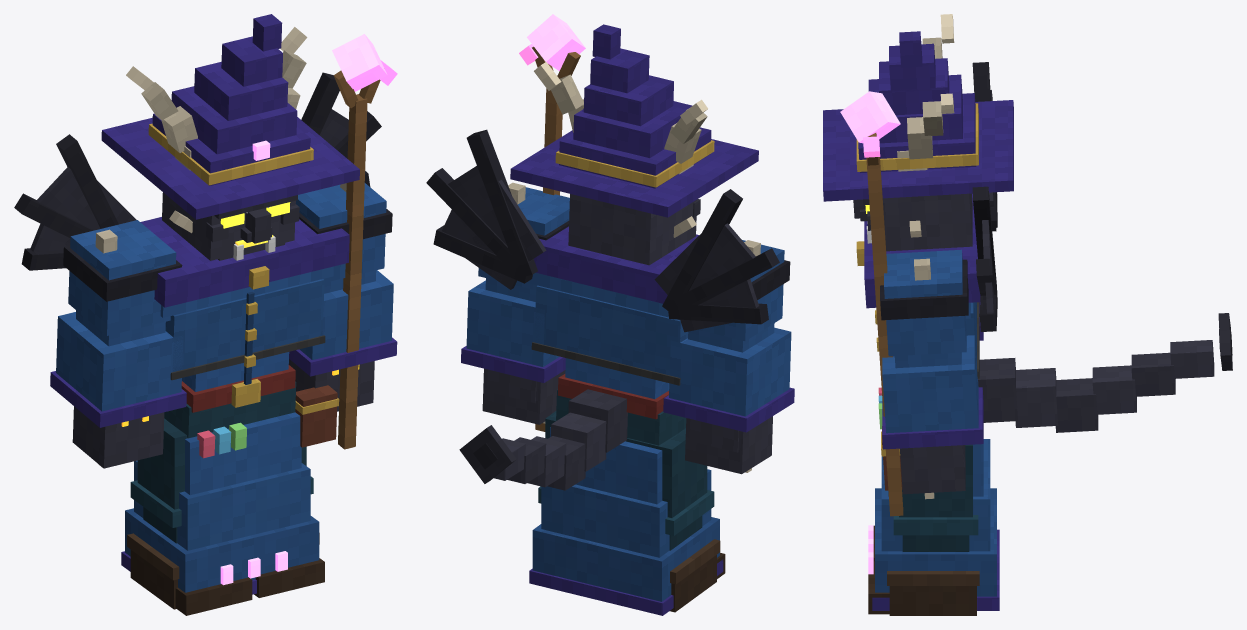
File: demon_mage_v3.glb
3 renders of one model, left to right at view 1: azimuth 30°, elevation 25°; view 2: azimuth 150°, elevation 25°; view 3: azimuth 270°, elevation 25°, orthographic. The views are drawn at different scales.
Parts seen in each view (by area): view 1: Torso, Head, ArmR, Root, ArmL, HandL, LegR, LegL; view 2: Torso, Head, Root, ArmR, ArmL, LegR, HandL; view 3: Head, ArmL, Torso, LegL, Root, HandL.
Boxes of the visible parts, box(x1,y1,x2,y2) form: Torso: box(14, 72, 381, 458); Head: box(101, 14, 359, 260); ArmR: box(50, 220, 186, 468); Root: box(121, 412, 319, 594); ArmL: box(288, 183, 397, 411); HandL: box(332, 34, 397, 449); LegR: box(127, 418, 252, 615); LegL: box(254, 446, 324, 597); Torso: box(426, 129, 779, 490); Head: box(510, 24, 758, 265); Root: box(529, 427, 723, 615); ArmR: box(663, 240, 794, 474); ArmL: box(461, 182, 569, 424); LegR: box(625, 428, 725, 612); HandL: box(519, 14, 585, 431); Head: box(823, 14, 1013, 251); ArmL: box(880, 249, 983, 499); Torso: box(856, 62, 1232, 490); LegL: box(868, 444, 979, 615); Root: box(868, 439, 999, 610); HandL: box(840, 91, 903, 516).
Bounding box in the file's own units: 1.58 × 2.34 × 1.55.
Materials: 44 (44 with a texture image).
